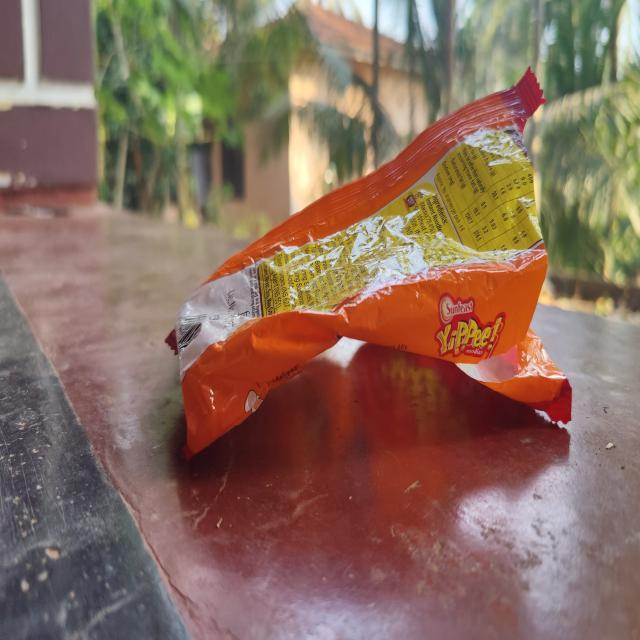plastic: (168, 62, 574, 470)
